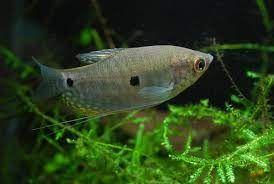Gourami: (31, 41, 212, 141)
